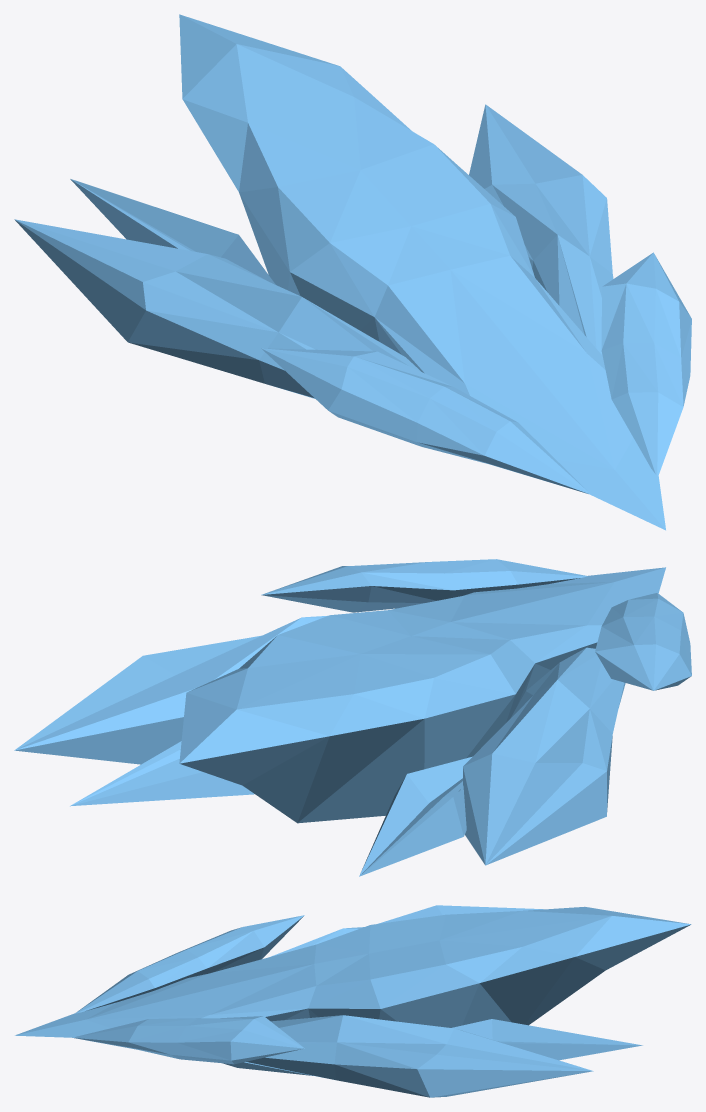
File: icejumpramp.fbx
The picture shows the model from 3 angles, top to bottom: view 1: azimuth 30°, elevation 25°; view 2: azimuth 150°, elevation 25°; view 3: azimuth 270°, elevation 25°; orthographic projection. The views are drawn at different scales.
Visible parts, largest first — view 1: icejumpramp; view 2: icejumpramp; view 3: icejumpramp.
Boxes of the visible parts, left/top/right/bottom form: icejumpramp: left=14, top=14, right=691, bottom=530; icejumpramp: left=14, top=559, right=691, bottom=876; icejumpramp: left=15, top=905, right=691, bottom=1097.
Size of the model in its own units: 157 by 54.47 by 276.
Materials: 1 (1 with a texture image).
